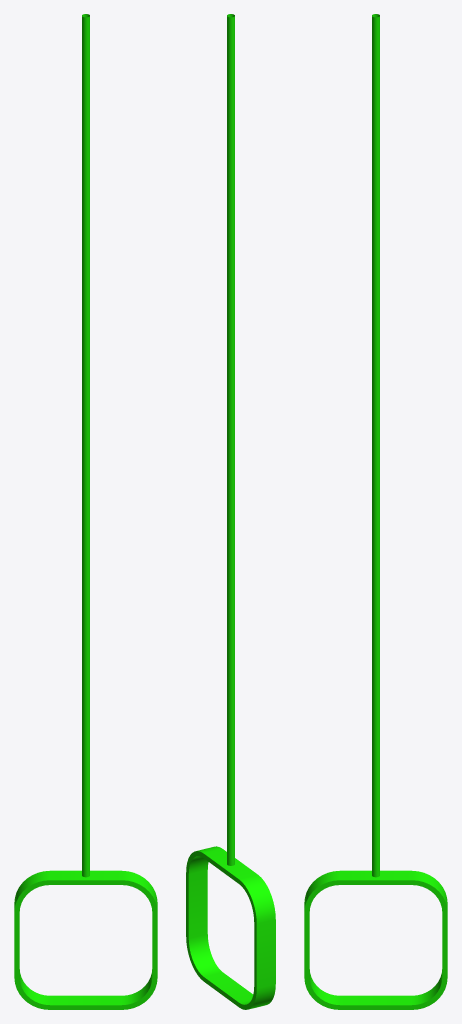
The model's file is cutter3_roundcube.fbx.
The picture shows the model from 3 angles, left to right: view 1: azimuth 90°, elevation 25°; view 2: azimuth 210°, elevation 25°; view 3: azimuth 270°, elevation 25°; orthographic projection.
Visible parts, largest first — view 1: Cutter3_Roundcube; view 2: Cutter3_Roundcube; view 3: Cutter3_Roundcube.
Part boxes in pixels (x1,y1,x2,y2): Cutter3_Roundcube: (14,14,157,1009); Cutter3_Roundcube: (186,14,275,1009); Cutter3_Roundcube: (304,14,447,1009).
Size of the model in its own units: 16.81 by 824 by 108.
